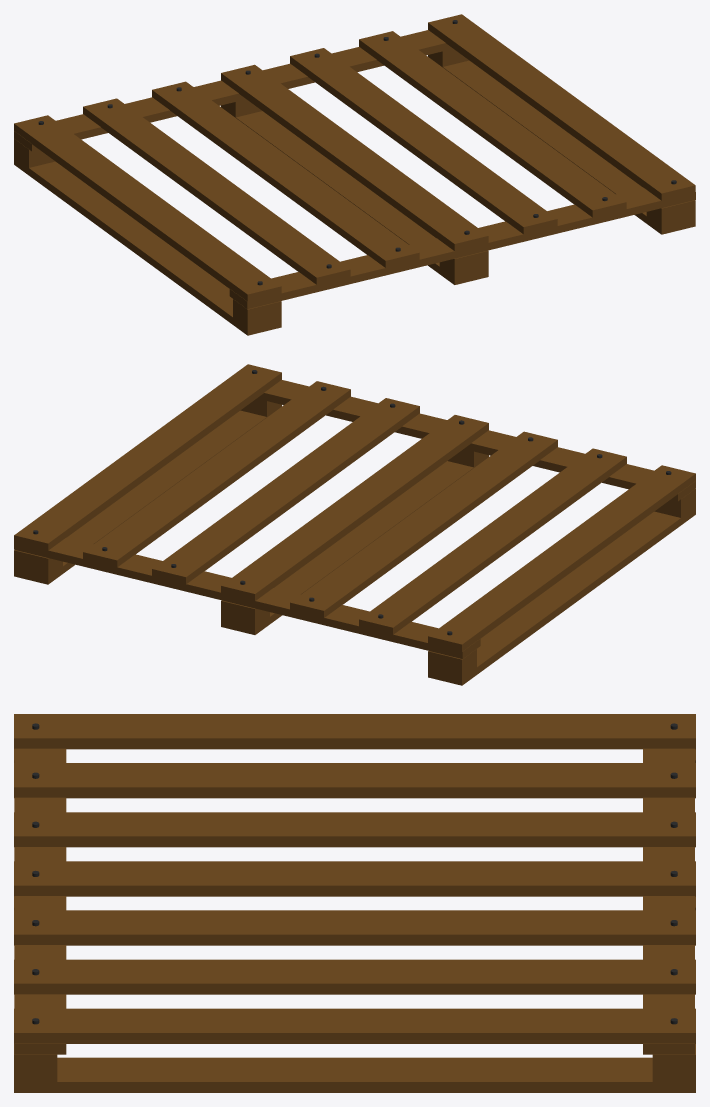
The model's file is PALET.fbx.
3 renders of one model, top to bottom at view 1: azimuth 30°, elevation 25°; view 2: azimuth 150°, elevation 25°; view 3: azimuth 270°, elevation 25°, orthographic. The views are drawn at different scales.
Visible parts, largest first — view 1: Wood Pallet Standar.003; view 2: Wood Pallet Standar.003; view 3: Wood Pallet Standar.003.
Boxes of the visible parts, <box> form: Wood Pallet Standar.003: <box>14,14,695,335</box>; Wood Pallet Standar.003: <box>14,364,695,685</box>; Wood Pallet Standar.003: <box>14,714,695,1092</box>.
Bounding box in the file's own units: 187 × 17.25 × 169.
